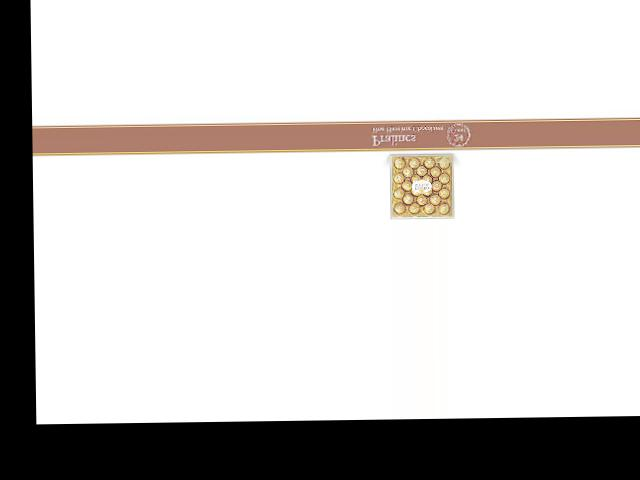chocolate: (386, 150, 458, 223)
